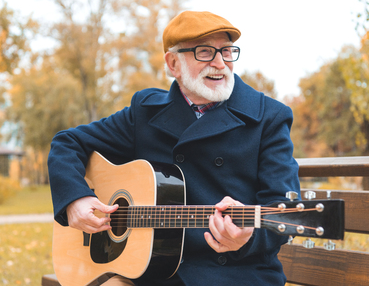fretboard: (127, 205, 256, 227)
